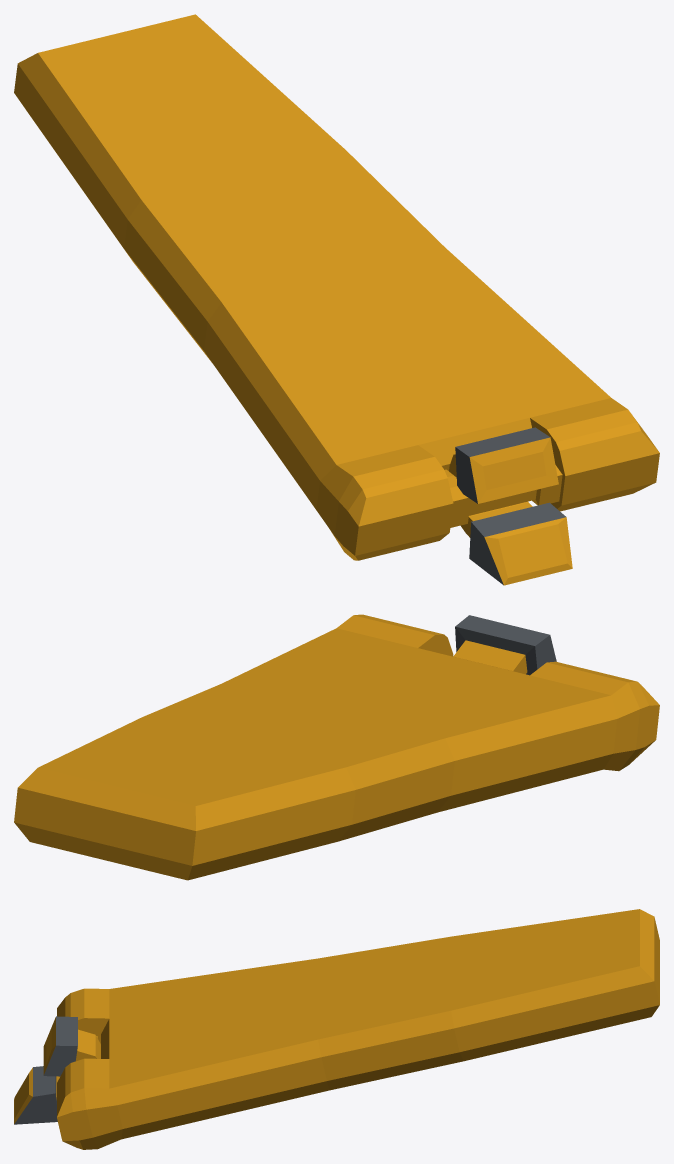
The model's file is Fighter_04_Flap_Right_Yellow.fbx.
The picture shows the model from 3 angles, top to bottom: view 1: azimuth 30°, elevation 25°; view 2: azimuth 150°, elevation 25°; view 3: azimuth 270°, elevation 25°; orthographic projection. The views are drawn at different scales.
Visible parts, largest first — view 1: Fighter_04_Flap_Right_Yellow; view 2: Fighter_04_Flap_Right_Yellow; view 3: Fighter_04_Flap_Right_Yellow.
Part boxes in pixels (x1=…): Fighter_04_Flap_Right_Yellow: x1=14, y1=14, x2=659, y2=585; Fighter_04_Flap_Right_Yellow: x1=14, y1=614, x2=659, y2=880; Fighter_04_Flap_Right_Yellow: x1=14, y1=909, x2=659, y2=1149.
Bounding box in the file's own units: 116 × 86.18 × 289.
1 material, 1 textured.
